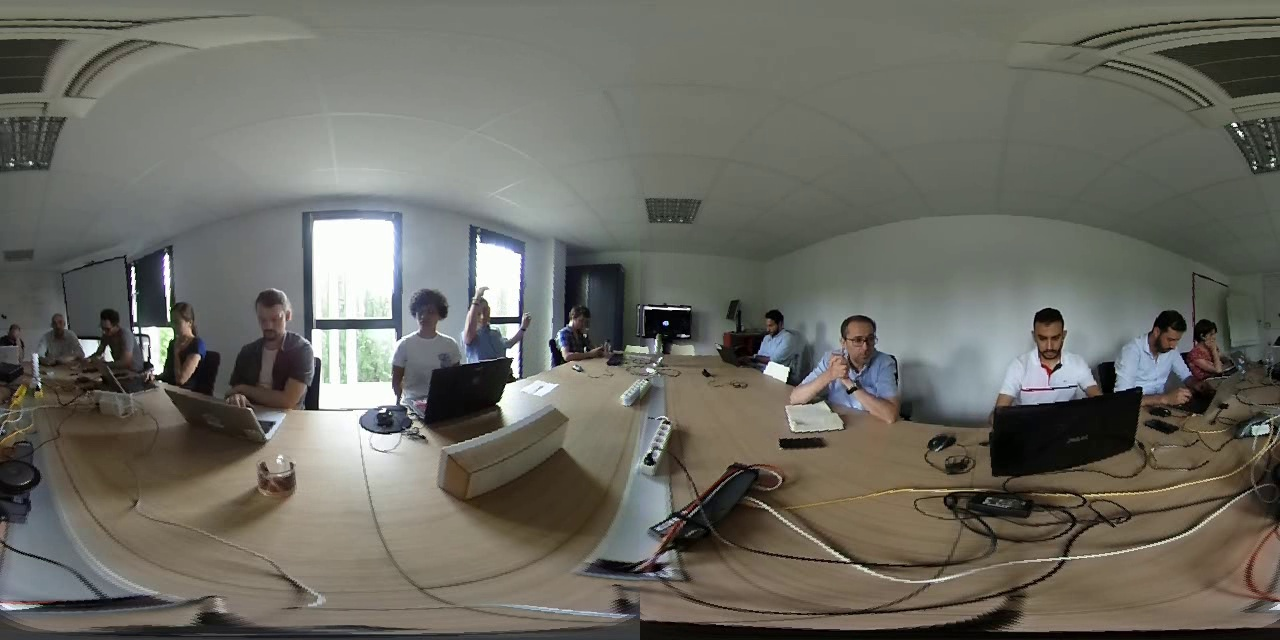person: (805, 288, 917, 426), (994, 299, 1112, 409), (233, 281, 330, 400), (1113, 293, 1188, 393), (459, 270, 533, 370), (388, 280, 460, 372), (156, 294, 218, 389), (739, 292, 803, 372), (84, 296, 147, 374), (1189, 300, 1239, 385), (549, 287, 606, 361), (33, 301, 85, 365), (1, 309, 27, 350)
